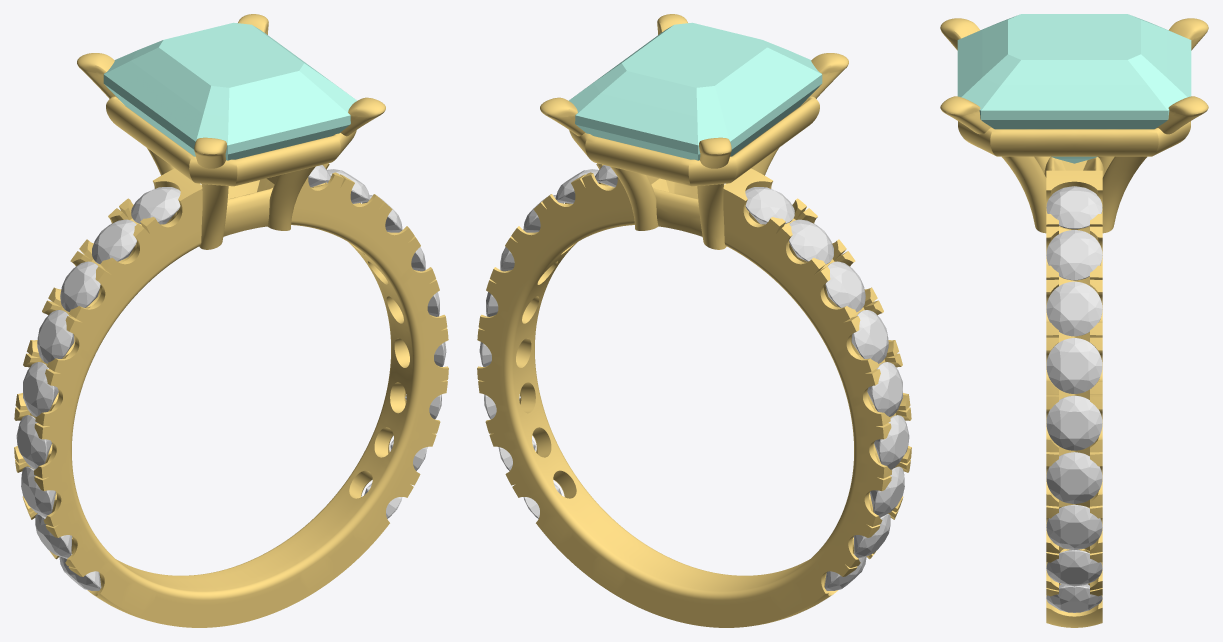
The model's file is StephanieV2eng_blender.glb.
3 views of the same model, side by side, from view 1: azimuth 30°, elevation 25°; view 2: azimuth 150°, elevation 25°; view 3: azimuth 270°, elevation 25° (orthographic).
Parts seen in each view (by area): view 1: V2 Stephanie YG eng for 3d model, Stephanie aquamarine eng for 3d model, V2 Stephanie dia eng for 3d model.011, V2 Stephanie dia eng for 3d model.010, V2 Stephanie dia eng for 3d model.012, V2 Stephanie dia eng for 3d model.009, V2 Stephanie dia eng for 3d model.013, V2 Stephanie dia eng for 3d model.014, V2 Stephanie dia eng for 3d model.015, V2 Stephanie dia eng for 3d model.016; view 2: V2 Stephanie YG eng for 3d model, Stephanie aquamarine eng for 3d model, V2 Stephanie dia eng for 3d model.011, V2 Stephanie dia eng for 3d model.010, V2 Stephanie dia eng for 3d model.012, V2 Stephanie dia eng for 3d model.009, V2 Stephanie dia eng for 3d model.013, V2 Stephanie dia eng for 3d model.014, V2 Stephanie dia eng for 3d model.015, V2 Stephanie dia eng for 3d model.016; view 3: Stephanie aquamarine eng for 3d model, V2 Stephanie YG eng for 3d model, V2 Stephanie dia eng for 3d model.003, V2 Stephanie dia eng for 3d model.004, V2 Stephanie dia eng for 3d model.002, V2 Stephanie dia eng for 3d model.005, V2 Stephanie dia eng for 3d model.001, V2 Stephanie dia eng for 3d model.006, V2 Stephanie dia eng for 3d model, V2 Stephanie dia eng for 3d model.007, V2 Stephanie dia eng for 3d model.008.
Boxes of the visible parts, bbox=[...] form: V2 Stephanie YG eng for 3d model: bbox=[14, 14, 448, 627]; Stephanie aquamarine eng for 3d model: bbox=[103, 22, 356, 160]; V2 Stephanie dia eng for 3d model.011: bbox=[60, 261, 100, 311]; V2 Stephanie dia eng for 3d model.010: bbox=[92, 219, 136, 264]; V2 Stephanie dia eng for 3d model.012: bbox=[37, 310, 74, 363]; V2 Stephanie dia eng for 3d model.009: bbox=[131, 187, 180, 224]; V2 Stephanie dia eng for 3d model.013: bbox=[23, 362, 58, 416]; V2 Stephanie dia eng for 3d model.014: bbox=[16, 415, 51, 469]; V2 Stephanie dia eng for 3d model.015: bbox=[21, 466, 55, 517]; V2 Stephanie dia eng for 3d model.016: bbox=[35, 514, 72, 558]; V2 Stephanie YG eng for 3d model: bbox=[477, 14, 911, 627]; Stephanie aquamarine eng for 3d model: bbox=[569, 22, 822, 160]; V2 Stephanie dia eng for 3d model.011: bbox=[825, 261, 865, 311]; V2 Stephanie dia eng for 3d model.010: bbox=[789, 219, 833, 264]; V2 Stephanie dia eng for 3d model.012: bbox=[851, 310, 888, 363]; V2 Stephanie dia eng for 3d model.009: bbox=[745, 187, 794, 224]; V2 Stephanie dia eng for 3d model.013: bbox=[867, 362, 902, 416]; V2 Stephanie dia eng for 3d model.014: bbox=[874, 415, 909, 469]; V2 Stephanie dia eng for 3d model.015: bbox=[870, 466, 904, 517]; V2 Stephanie dia eng for 3d model.016: bbox=[853, 514, 890, 558]; Stephanie aquamarine eng for 3d model: bbox=[957, 14, 1191, 163]; V2 Stephanie YG eng for 3d model: bbox=[940, 18, 1208, 627]; V2 Stephanie dia eng for 3d model.003: bbox=[1046, 338, 1102, 393]; V2 Stephanie dia eng for 3d model.004: bbox=[1046, 395, 1102, 450]; V2 Stephanie dia eng for 3d model.002: bbox=[1046, 281, 1102, 336]; V2 Stephanie dia eng for 3d model.005: bbox=[1046, 452, 1102, 503]; V2 Stephanie dia eng for 3d model.001: bbox=[1046, 230, 1102, 280]; V2 Stephanie dia eng for 3d model.006: bbox=[1046, 504, 1102, 550]; V2 Stephanie dia eng for 3d model: bbox=[1046, 186, 1102, 229]; V2 Stephanie dia eng for 3d model.007: bbox=[1046, 549, 1102, 586]; V2 Stephanie dia eng for 3d model.008: bbox=[1046, 584, 1102, 612].
Size of the model in its own units: 20.8 by 26.87 by 11.49.
